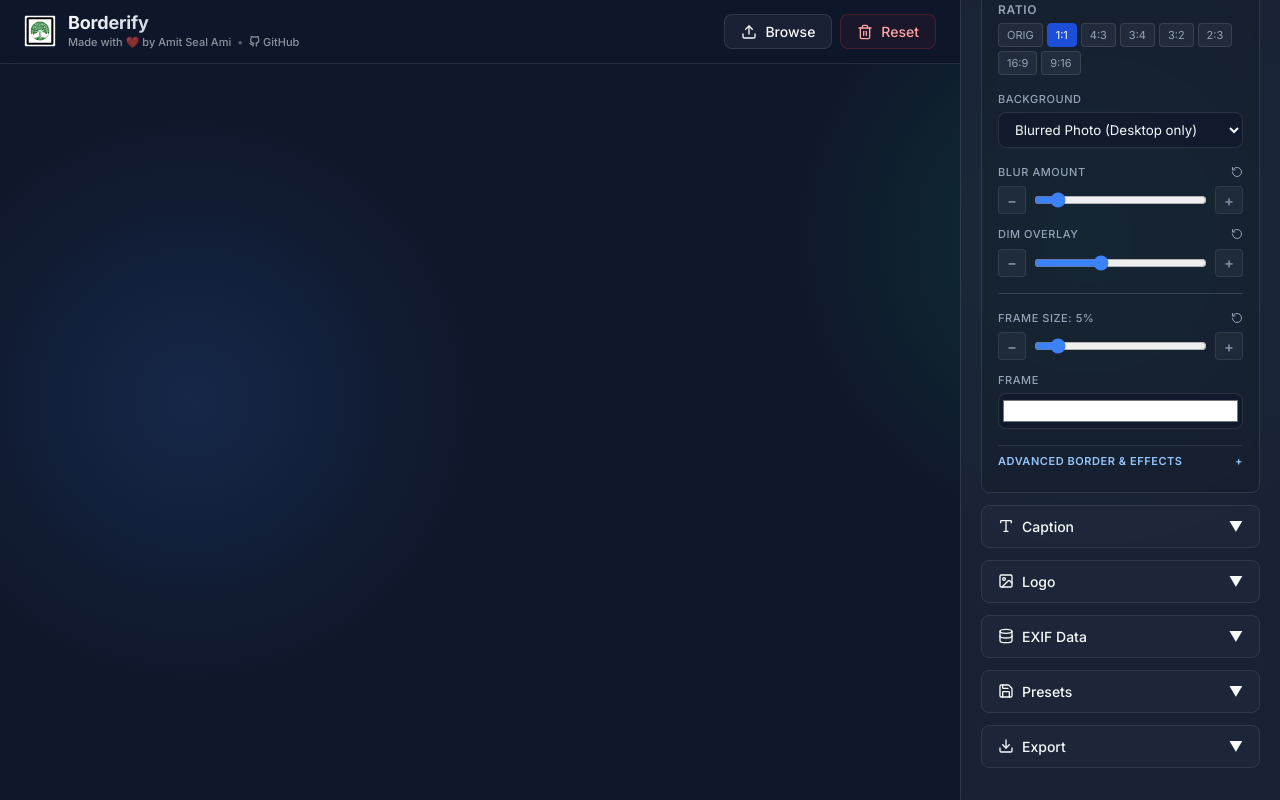
Test case: App Layout and UI components › [REQ-UI-10] presents the export preview as a modal dialog with focus management
(page scrolled)
Click the button "Export ▼".
click(1044, 746)  # box [982,726,1259,766]
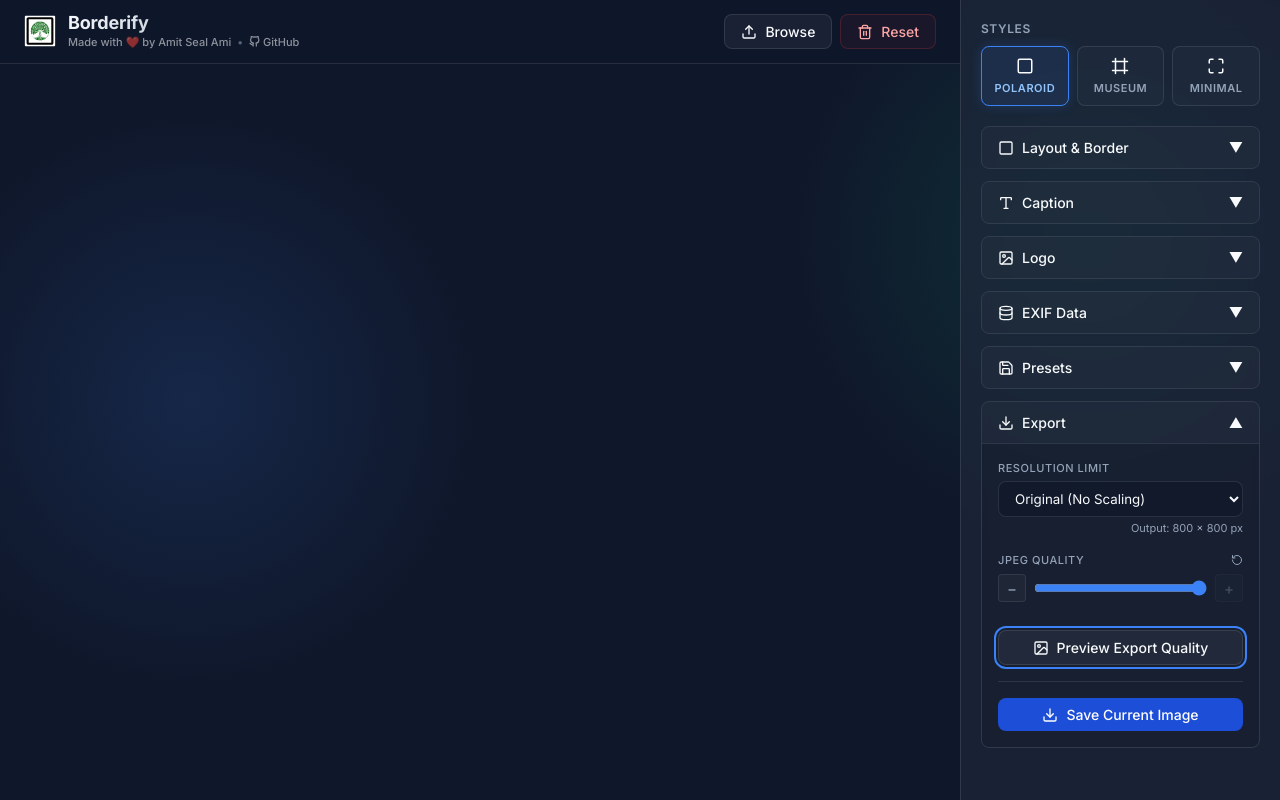
Click the button "Preview Export Quality".
click(1120, 648)  # box [998,630,1243,665]
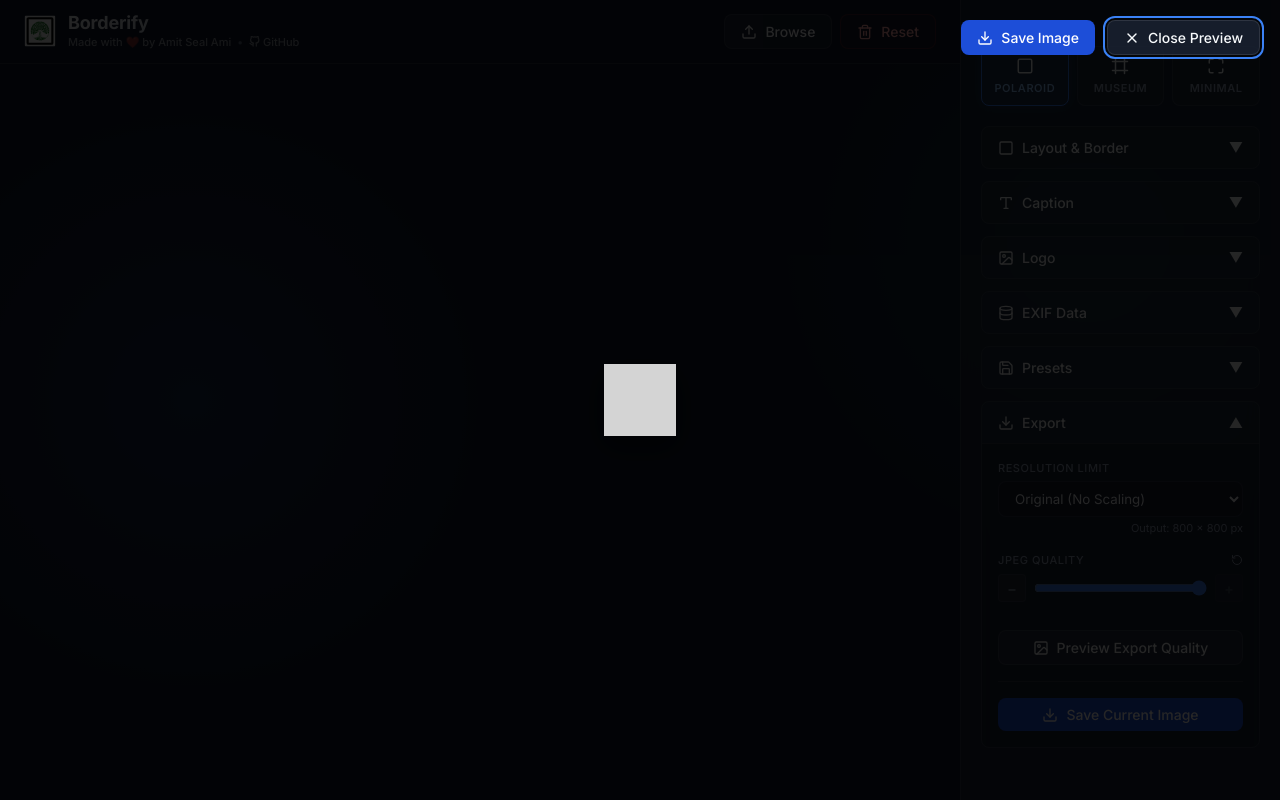
Press Tab
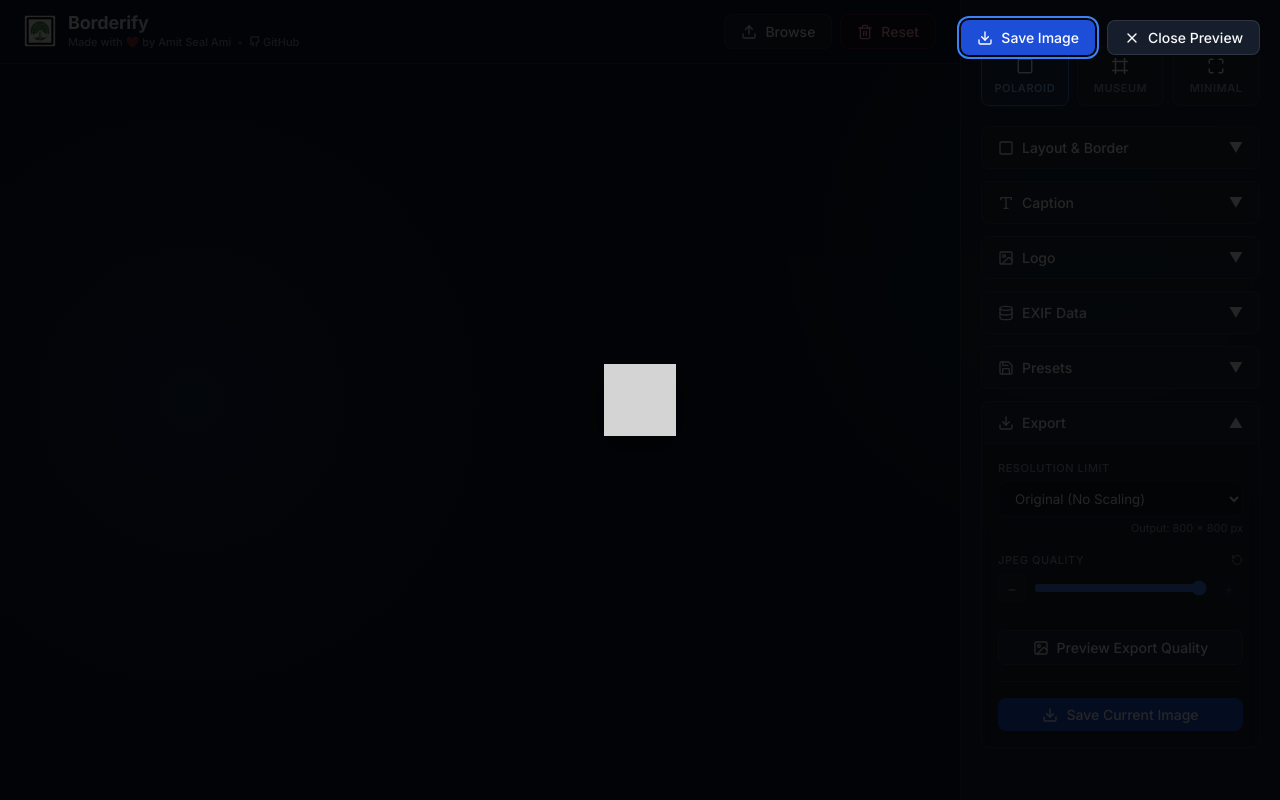
Press Tab
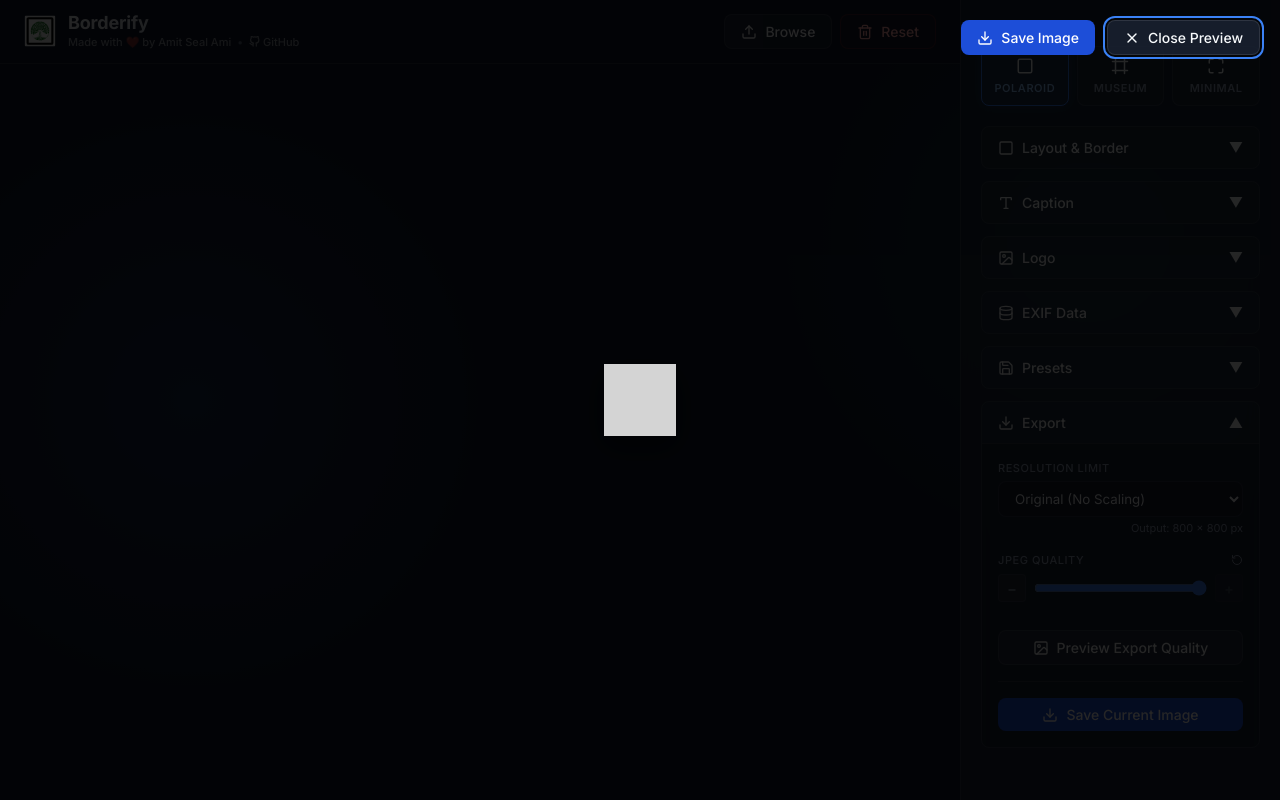
// Escape closes the dialog and returns focus to the trigger
Press Escape
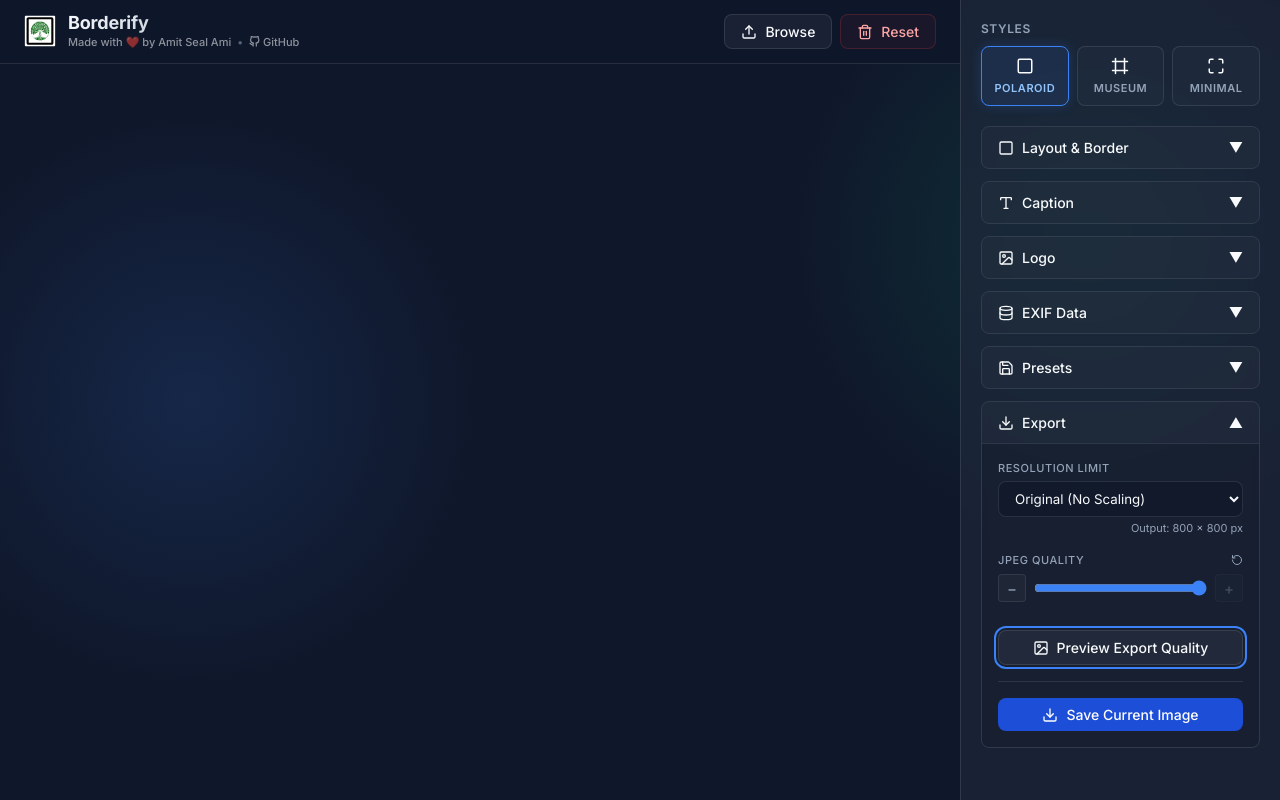
Now the dialog is gone
